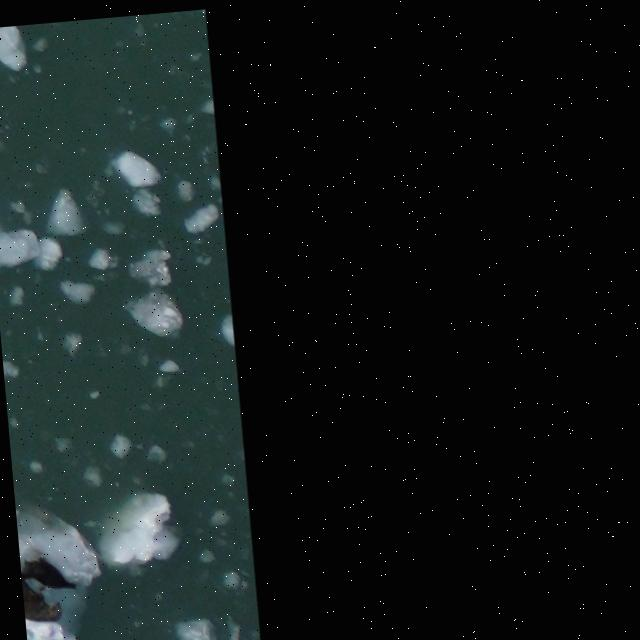seal: (19, 540, 68, 627), (20, 551, 81, 601)
